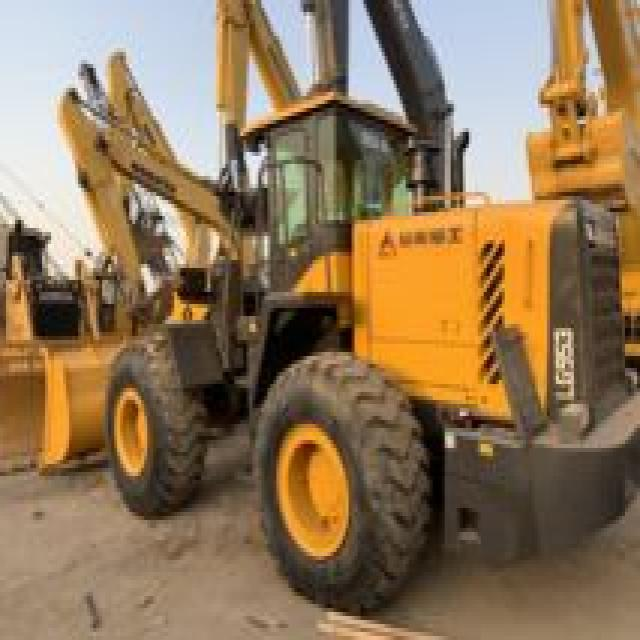buldozerpayloadergrader: (28, 92, 640, 607)
